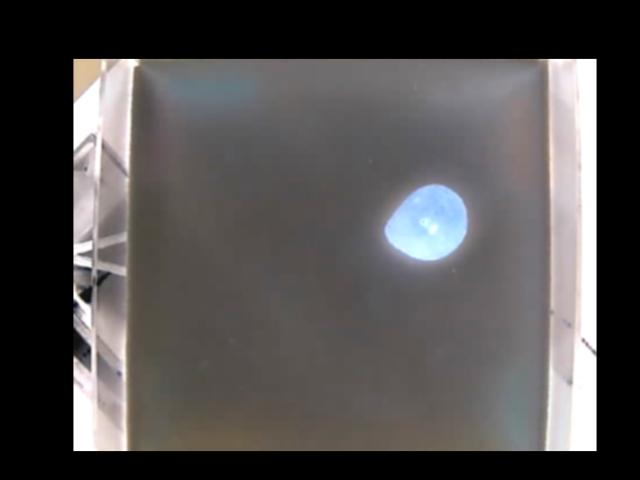Potato: (384, 184, 467, 259)
